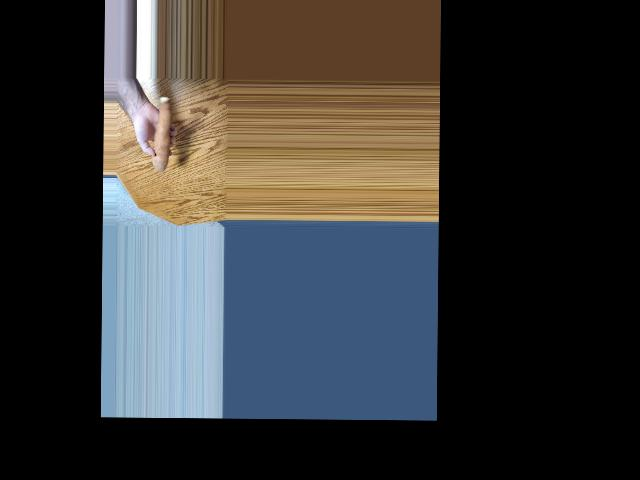sweet_potato: (156, 102, 175, 172)
